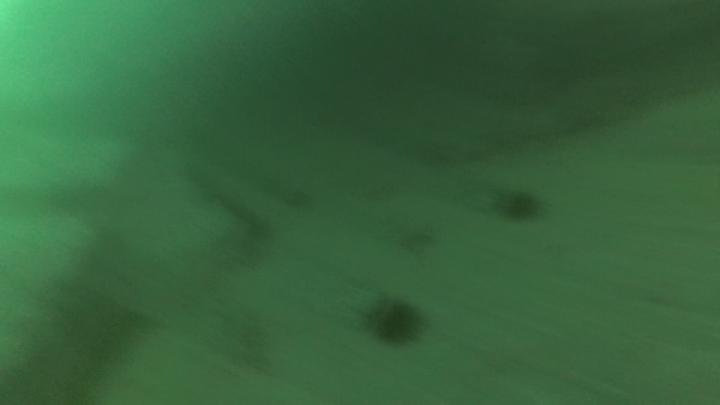echinus: (372, 305, 411, 342), (508, 193, 533, 223)
